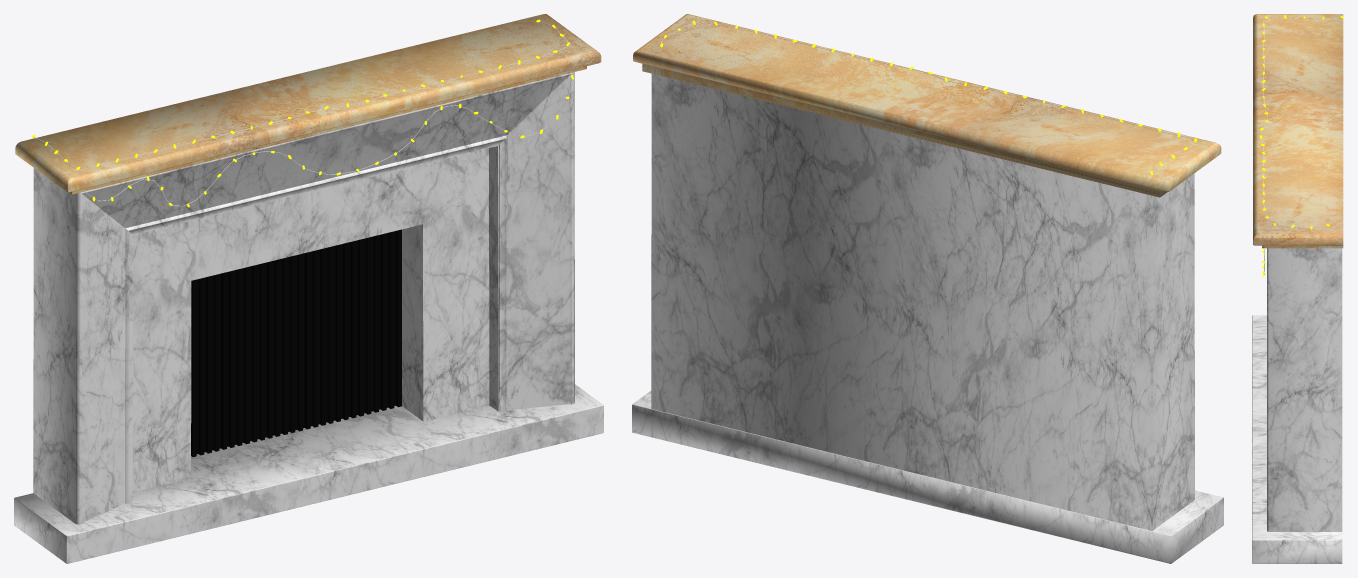
File: Lareira.glb
3 renders of one model, left to right at view 1: azimuth 30°, elevation 25°; view 2: azimuth 150°, elevation 25°; view 3: azimuth 270°, elevation 25°, orthographic. The views are drawn at different scales.
Parts seen in each view (by area): view 1: Base, Fundo, Bancada, Led; view 2: Base, Bancada; view 3: Base, Bancada, Led, FIO_LED1.
Boxes of the visible parts, box(x1,y1,x2,y2) form: Base: box(14, 72, 603, 563); Fundo: box(191, 229, 401, 457); Bancada: box(15, 14, 601, 194); Led: box(31, 19, 573, 207); Base: box(632, 73, 1223, 563); Bancada: box(633, 14, 1221, 197); Base: box(1252, 248, 1342, 563); Bancada: box(1253, 14, 1343, 248); Led: box(1260, 15, 1343, 276); FIO_LED1: box(1261, 17, 1341, 228).
Size of the model in its own units: 1.62 by 1.12 by 0.2802.
Materials: 5 (2 with a texture image).
